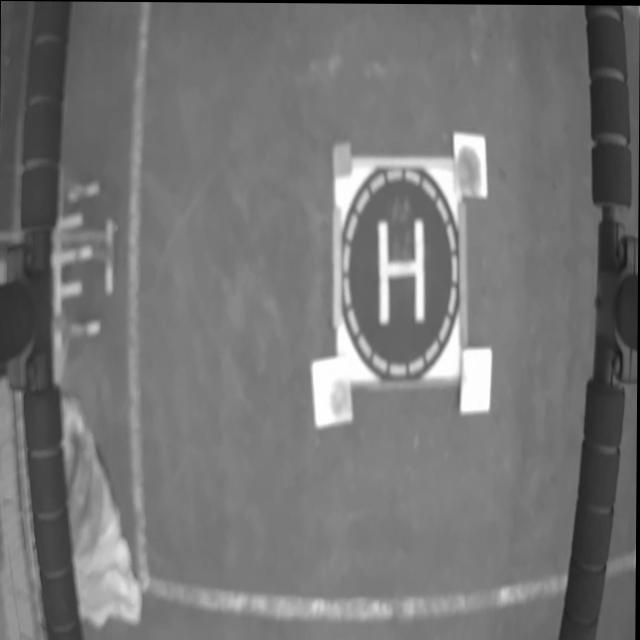Helipad: (377, 214, 425, 323)
